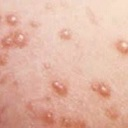Chickenpox: (1, 17, 29, 52), (90, 81, 112, 96), (50, 79, 68, 94), (116, 39, 128, 49), (60, 31, 73, 39)
